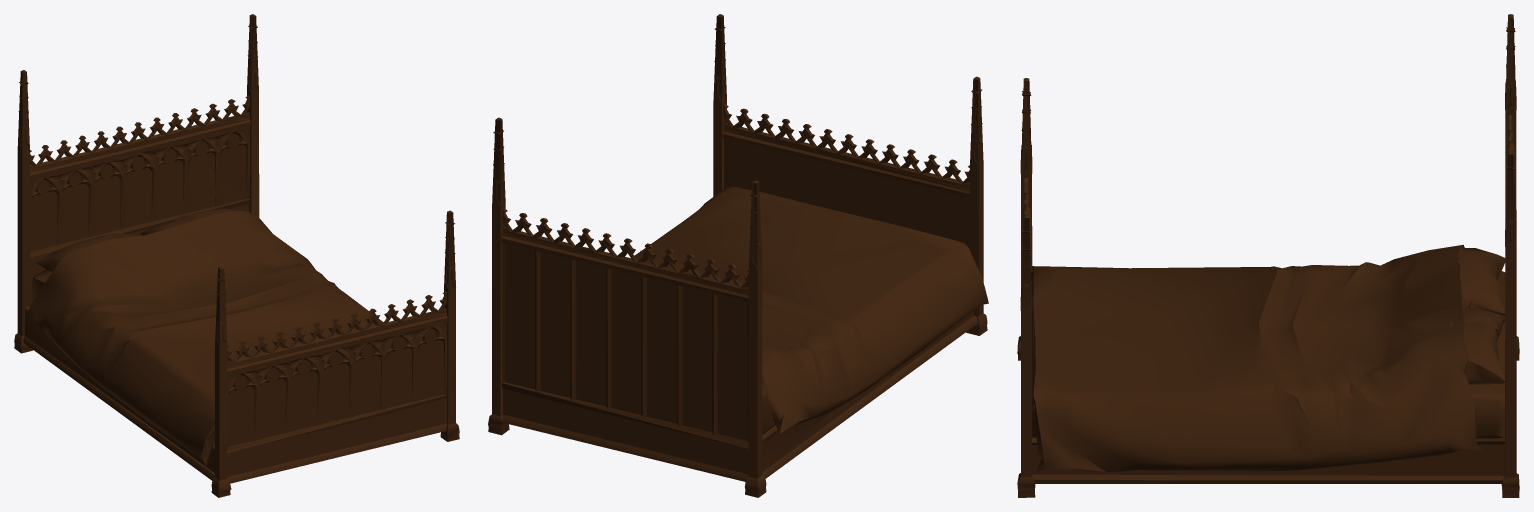
File: GothicBed_01.fbx
3 renders of one model, left to right at view 1: azimuth 30°, elevation 25°; view 2: azimuth 150°, elevation 25°; view 3: azimuth 270°, elevation 25°, orthographic. The views are drawn at different scales.
Parts seen in each view (by area): view 1: GothicBed_01; view 2: GothicBed_01; view 3: GothicBed_01.
Part boxes in pixels (box(x1,y1,x2,y2)): GothicBed_01: box(14, 14, 459, 497); GothicBed_01: box(488, 14, 988, 497); GothicBed_01: box(1017, 14, 1519, 497).
Size of the model in its own units: 1.49 by 1.54 by 2.04.
